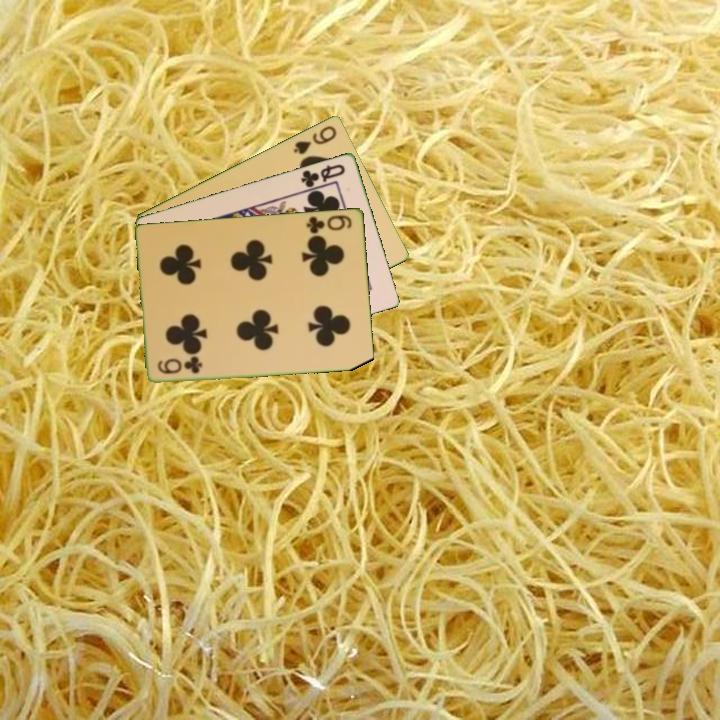6c: (303, 211, 355, 236), (154, 355, 206, 376)
9s: (290, 122, 340, 157)
Qc: (297, 160, 348, 190)
